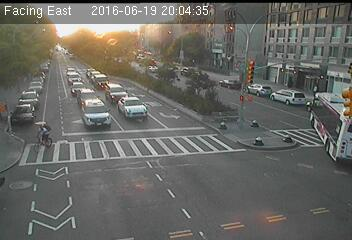neg: (29, 118, 60, 160)
